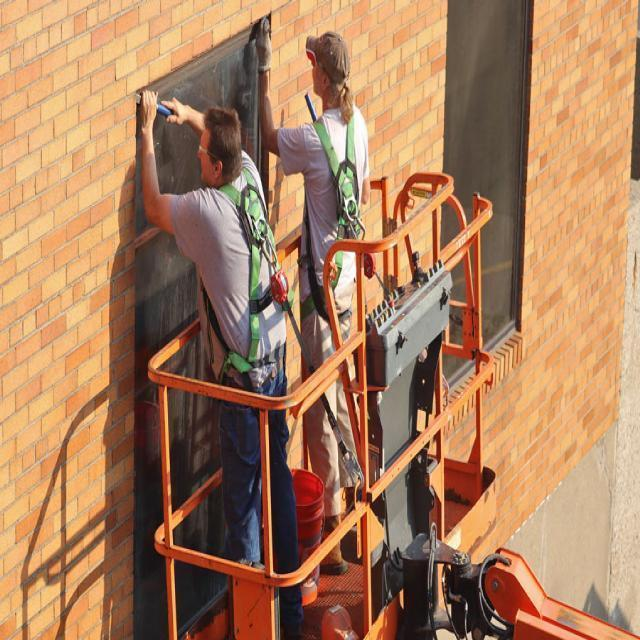No_BreathingApparatus: (195, 125, 216, 187)
No_Glove: (133, 90, 161, 130), (159, 94, 189, 126)
No_Helmet: (198, 107, 244, 151)
